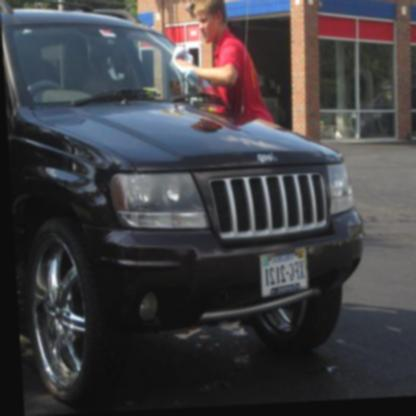License_Plate: (259, 247, 309, 298)
